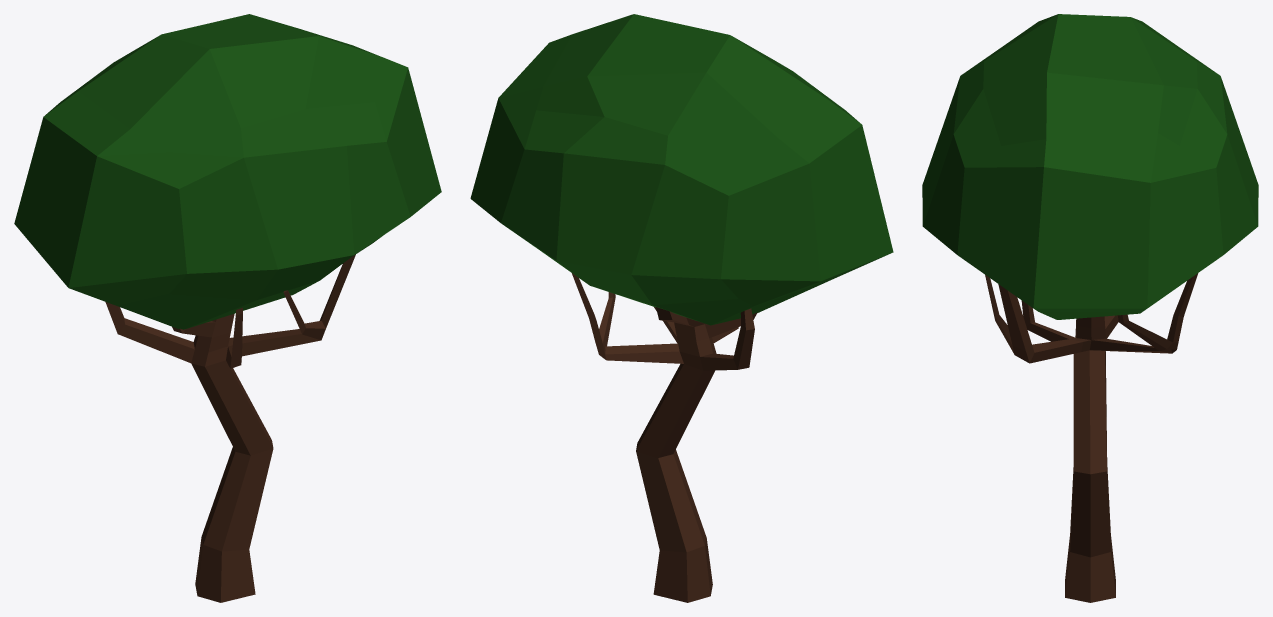
Rendered from tree1.fbx.
The picture shows the model from 3 angles, left to right: view 1: azimuth 30°, elevation 25°; view 2: azimuth 150°, elevation 25°; view 3: azimuth 270°, elevation 25°; orthographic projection.
Visible parts, largest first — view 1: Icosphere, Cube; view 2: Icosphere, Cube; view 3: Icosphere, Cube.
Part boxes in pixels (x1,y1,x2,y2): Icosphere: (14,14,441,329); Cube: (105,254,355,602); Icosphere: (470,14,893,325); Cube: (572,273,757,602); Icosphere: (922,14,1258,319); Cube: (985,273,1198,602).
Size of the model in its own units: 1687 by 2418 by 1316.
